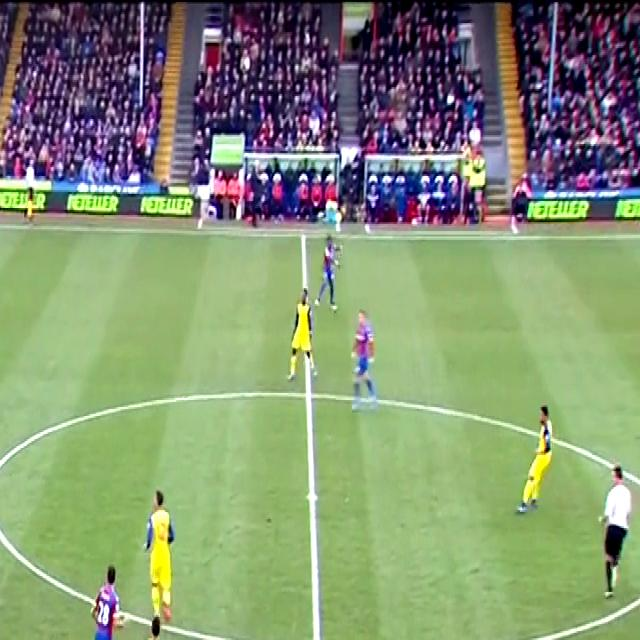referee: (592, 472, 640, 608)
soccer-player: (129, 484, 179, 624), (512, 400, 567, 522), (342, 303, 386, 417), (72, 558, 129, 640), (282, 288, 319, 390), (315, 233, 351, 316), (121, 618, 169, 640)
